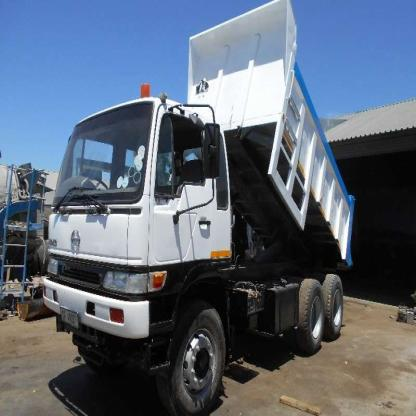dump_truck: (38, 2, 354, 415)
